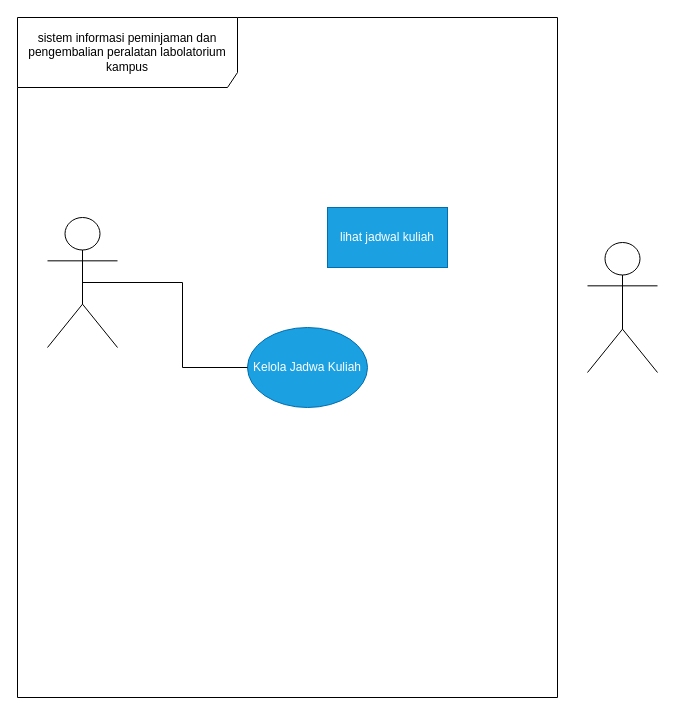
This 684x715 diagram has some shape labels left out. Here are the shapes that lost their labels. From the top down, the centre of each, then its label:
the point at 82,282: Mahasiswa
the point at 622,307: Admin akademik
